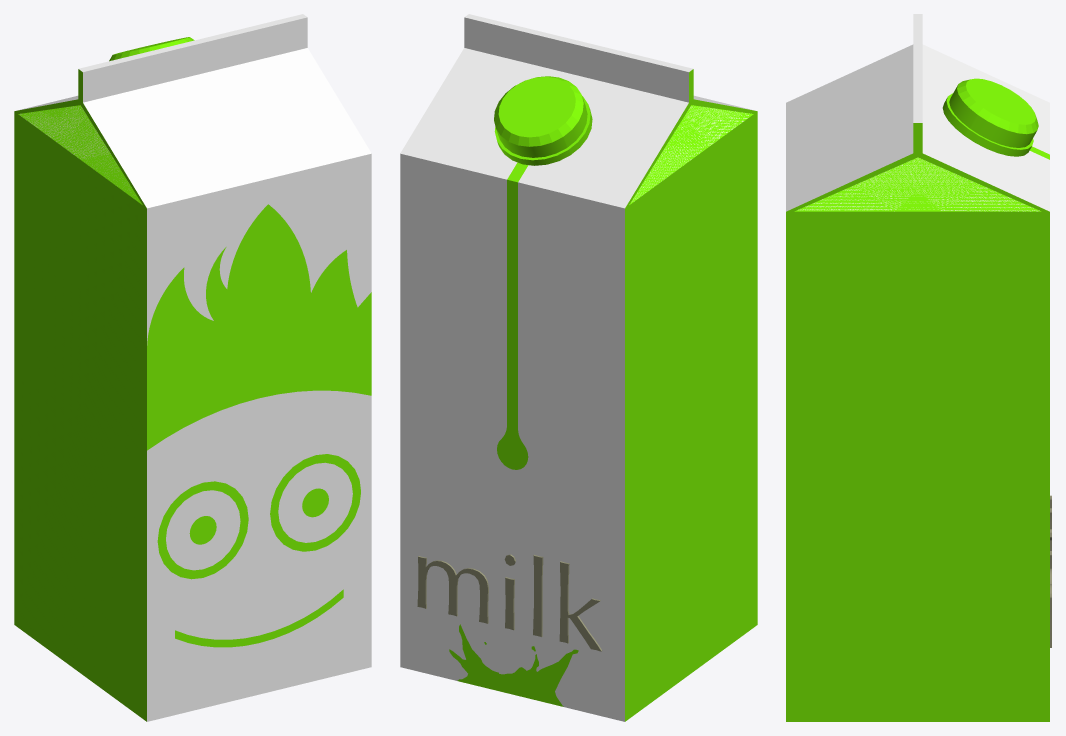
3 renders of one model, left to right at view 1: azimuth 30°, elevation 25°; view 2: azimuth 150°, elevation 25°; view 3: azimuth 270°, elevation 25°, orthographic.
Parts seen in each view (by area): view 1: SketchUp (×11); view 2: SketchUp (×5), milk (×3); view 3: SketchUp (×4).
Boxes of the visible parts, x1,y1,x2,y2 form: SketchUp (×11): (14,14,371,721); SketchUp (×5): (400,14,757,721); milk (×3): (417,554,602,651); SketchUp (×4): (786,14,1049,721).
Size of the model in its own units: 119 by 122 by 304.
